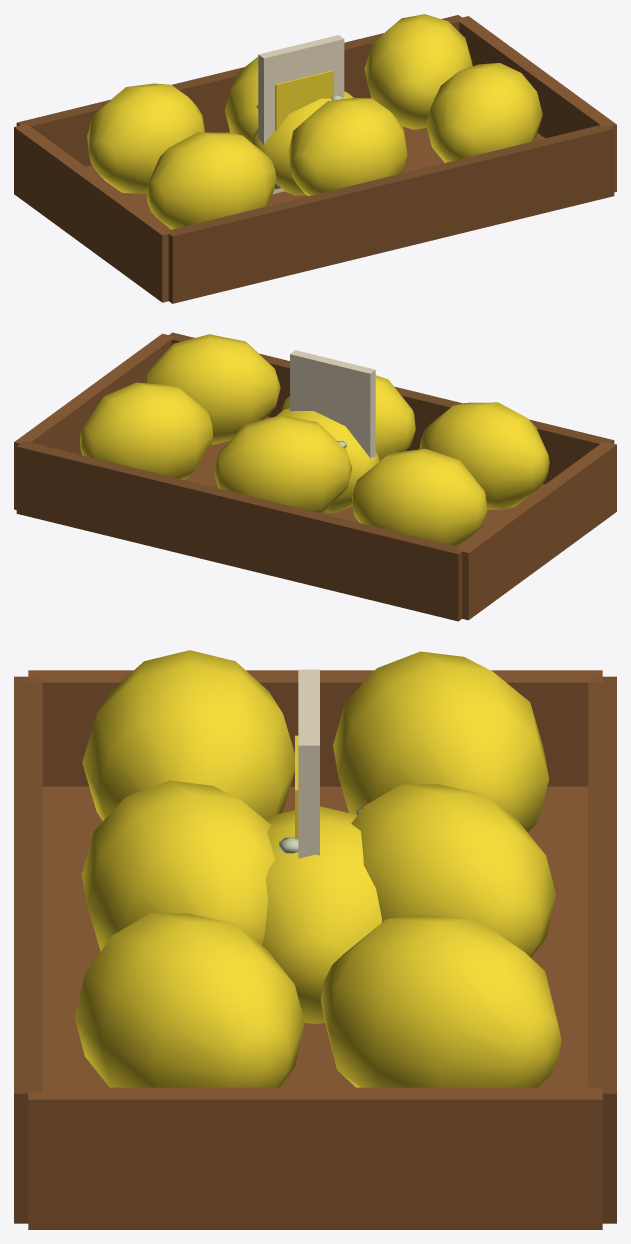
The model's file is Fruit_Lemon.fbx.
3 views of the same model, one above another, from view 1: azimuth 30°, elevation 25°; view 2: azimuth 150°, elevation 25°; view 3: azimuth 270°, elevation 25° (orthographic). The views are drawn at different scales.
Parts seen in each view (by area): view 1: Fruit_Lemon__Stack, Fruit_Lemon__Seed, Fruit_Lemon; view 2: Fruit_Lemon__Stack, Fruit_Lemon__Seed, Fruit_Lemon; view 3: Fruit_Lemon__Stack, Fruit_Lemon, Fruit_Lemon__Seed.
Boxes of the visible parts, left/top/right/bottom form: Fruit_Lemon__Stack: left=14, top=14, right=616, bottom=303; Fruit_Lemon__Seed: left=258, top=35, right=344, bottom=194; Fruit_Lemon: left=251, top=91, right=353, bottom=195; Fruit_Lemon__Stack: left=14, top=332, right=616, bottom=621; Fruit_Lemon__Seed: left=290, top=350, right=375, bottom=507; Fruit_Lemon: left=276, top=408, right=379, bottom=513; Fruit_Lemon__Stack: left=14, top=650, right=616, bottom=1229; Fruit_Lemon: left=262, top=806, right=381, bottom=1023; Fruit_Lemon__Seed: left=295, top=669, right=319, bottom=858.
Size of the model in its own units: 0.283 by 0.09 by 0.168.
